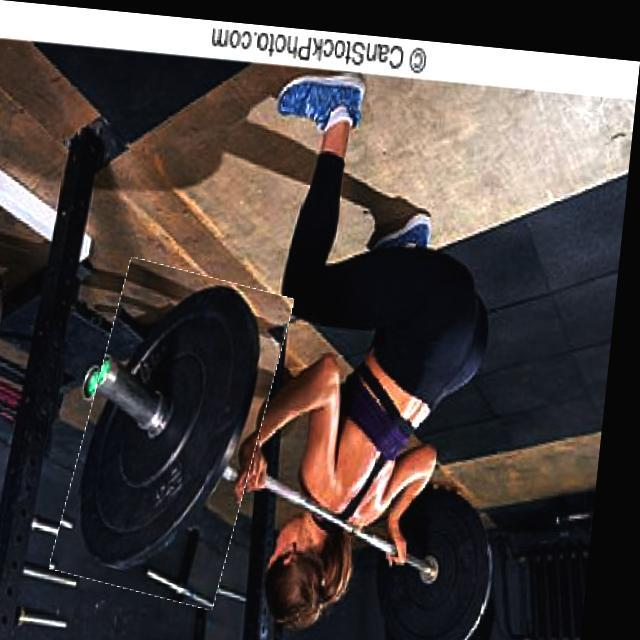barbell: (72, 257, 290, 603)
